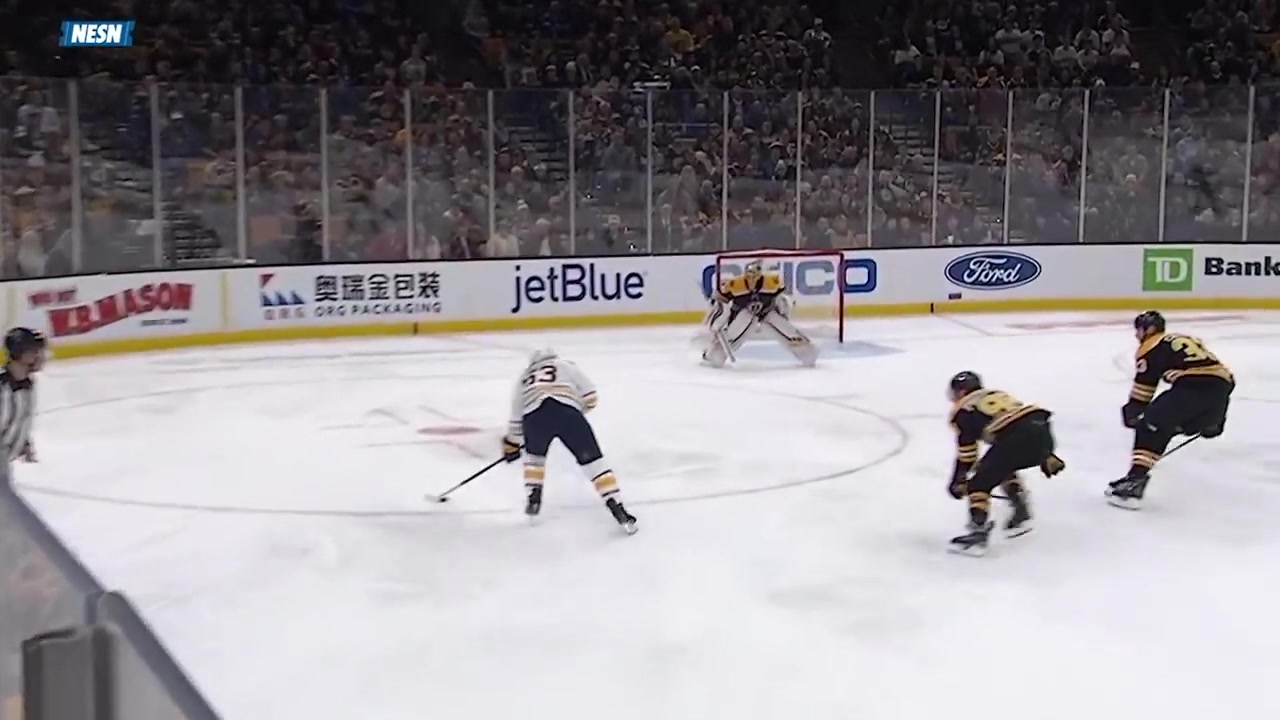Geico: (694, 248, 885, 303)
